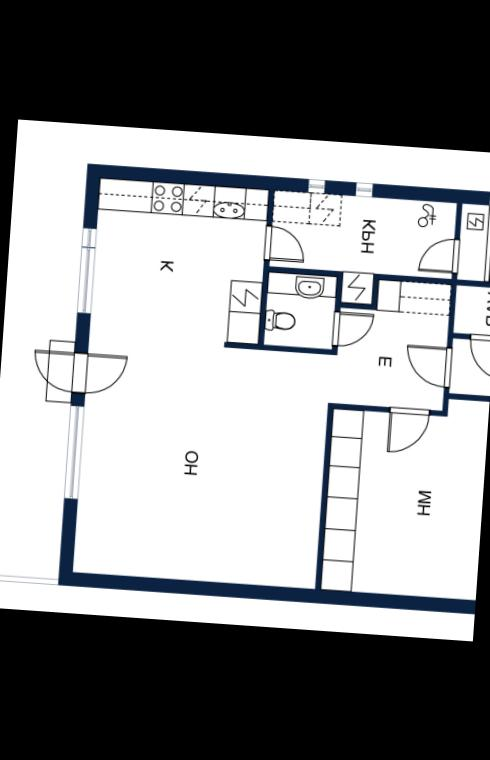door: (71, 344, 130, 400), (382, 400, 434, 456), (28, 345, 88, 393), (400, 337, 454, 390), (412, 231, 466, 275), (261, 220, 309, 266), (327, 309, 379, 350), (463, 327, 490, 383)
window: (70, 216, 103, 321), (60, 397, 91, 504), (347, 178, 380, 198), (304, 173, 330, 195), (478, 182, 490, 208)
